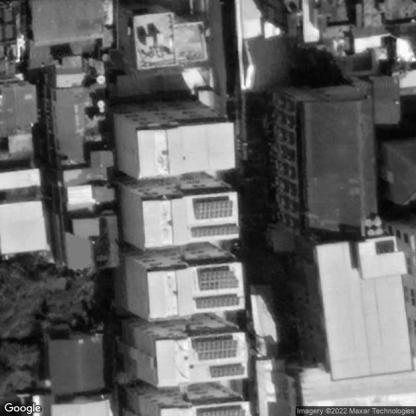solar-pv-panel: (198, 271, 241, 293), (195, 341, 237, 360), (194, 201, 235, 219), (190, 223, 239, 238), (193, 298, 240, 310), (209, 367, 246, 377)
